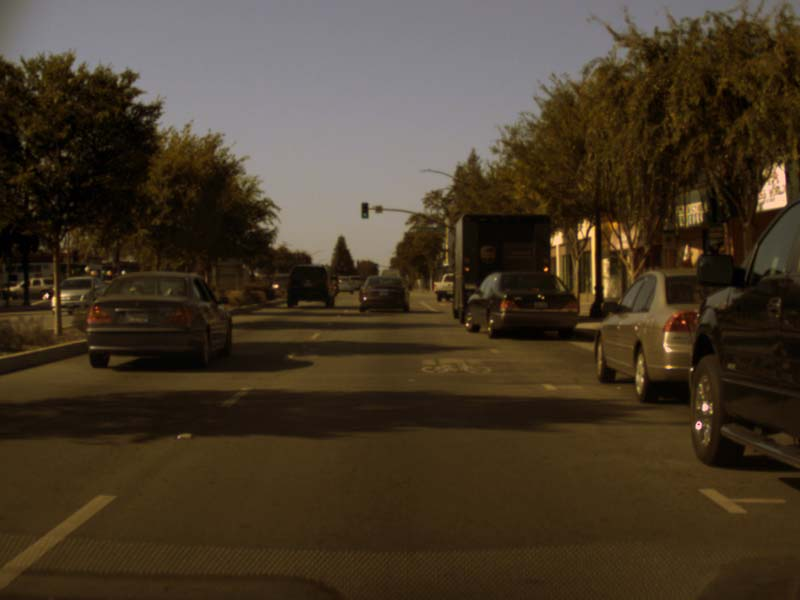Green: (361, 201, 368, 217)
